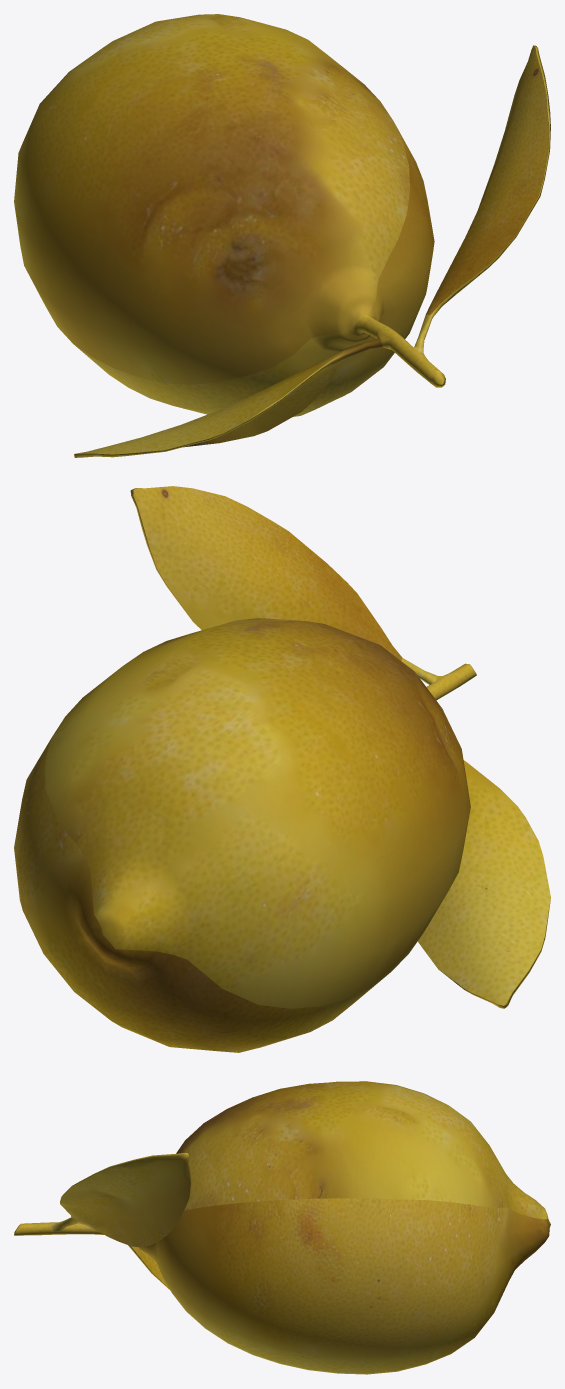
The picture shows the model from 3 angles, top to bottom: view 1: azimuth 30°, elevation 25°; view 2: azimuth 150°, elevation 25°; view 3: azimuth 270°, elevation 25°; orthographic projection. The views are drawn at different scales.
Bounding box in the file's own units: 0.6701 × 0.5868 × 1.
